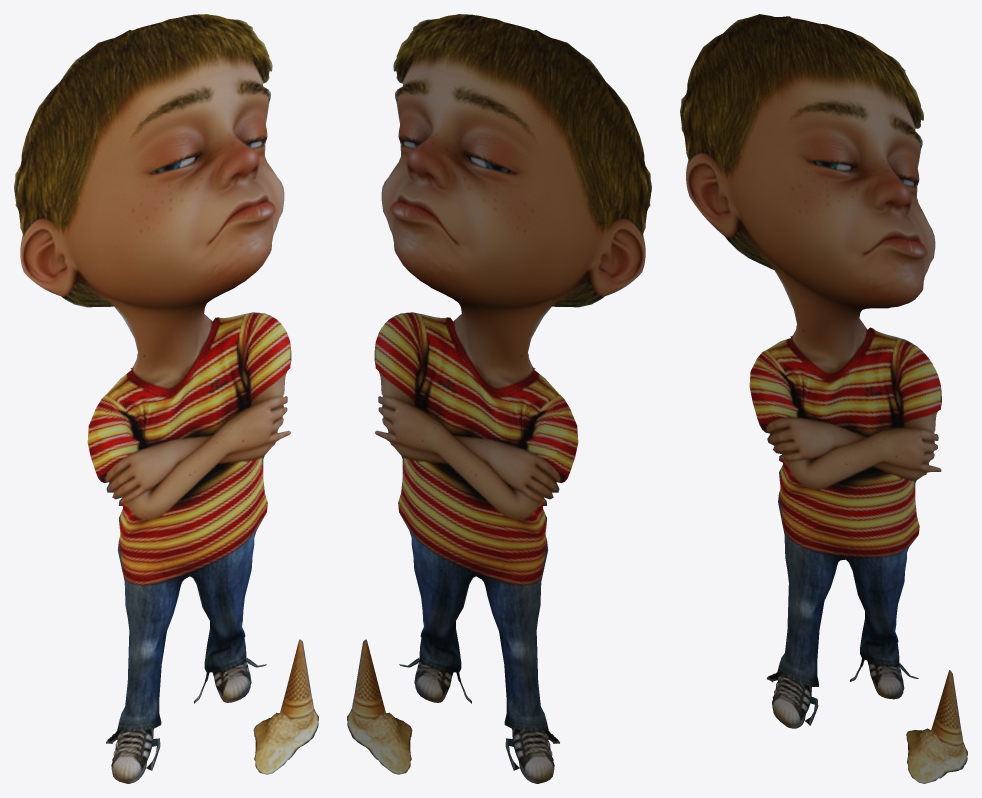
The picture shows the model from 3 angles, left to right: view 1: azimuth 30°, elevation 25°; view 2: azimuth 150°, elevation 25°; view 3: azimuth 330°, elevation 25°; orthographic projection. The views are drawn at different scales.
Parts seen in each view (by area): view 1: Wise_Kid (×2); view 2: Wise_Kid (×2); view 3: Wise_Kid (×2).
Boxes of the visible parts, box(x1,y1,x2,y2) form: Wise_Kid (×2): box(14, 14, 318, 783); Wise_Kid (×2): box(347, 14, 651, 783); Wise_Kid (×2): box(680, 14, 967, 783).
Size of the model in its own units: 28.69 by 5.15e-14 by 70.09.
Materials: 1 (1 with a texture image).
